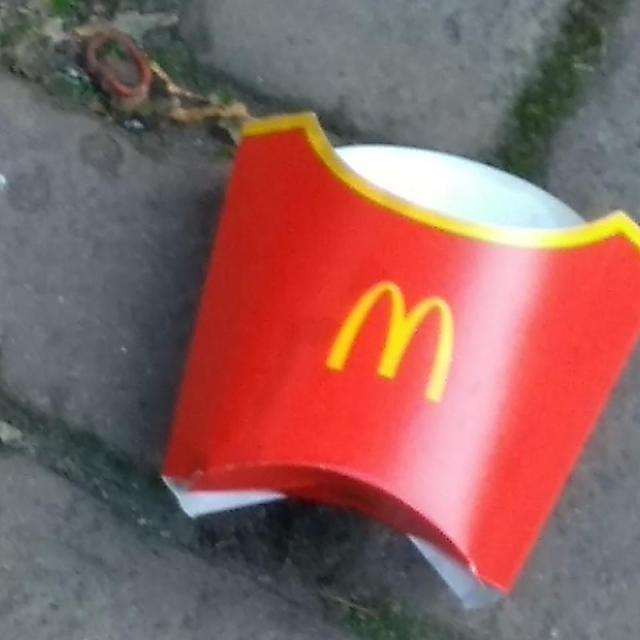Paper: (153, 105, 640, 615)
